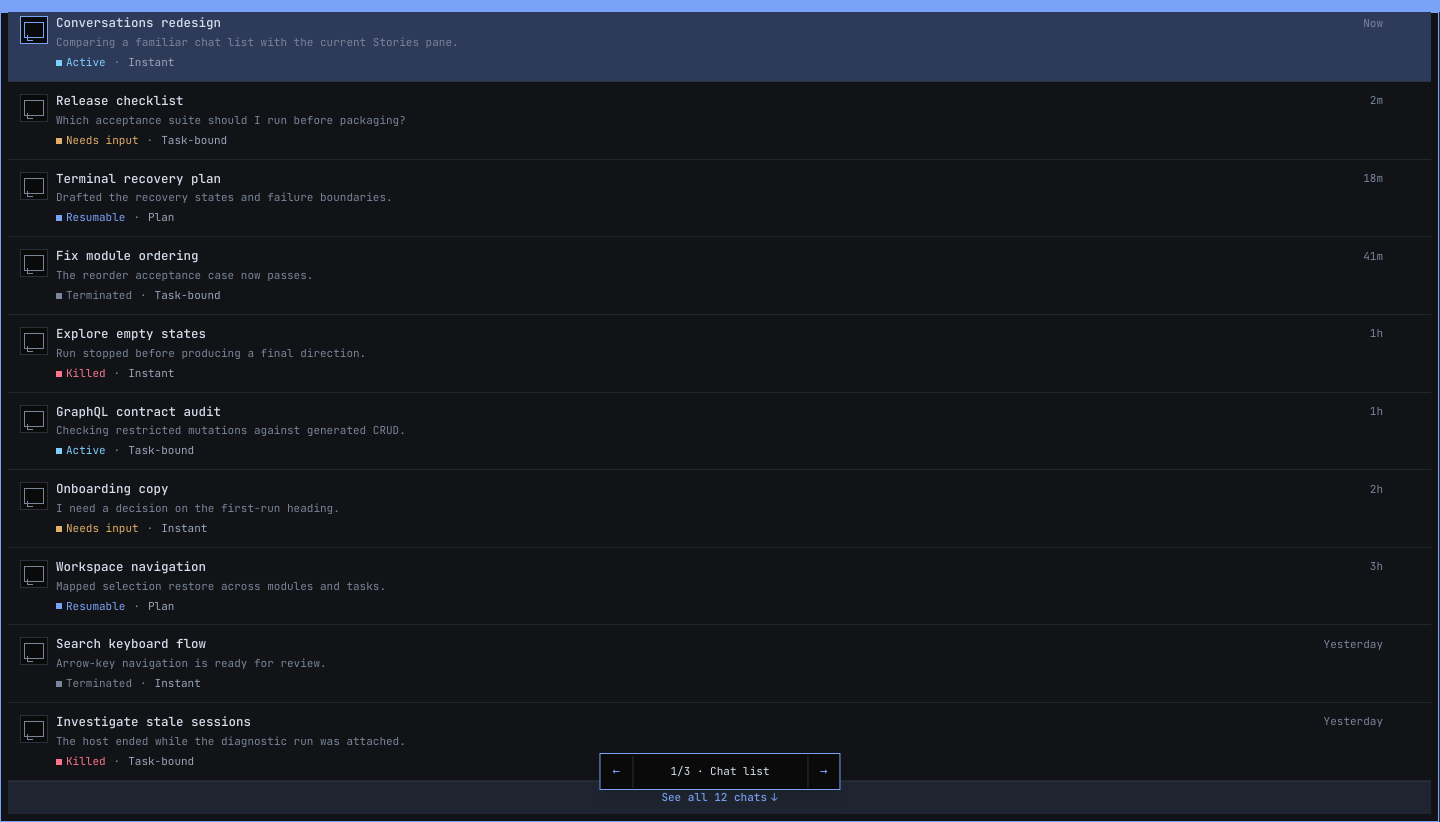
Test: overhaul acceptance - Conversations design prototype › [overhaul-242] caps the list design at ten chats
The width and height of the screenshot is (1440, 822).
(page scrolled)
Click the button "See all 12 chats ↓": {"x": 720, "y": 797} [8,781,1431,814]
(page scrolled)
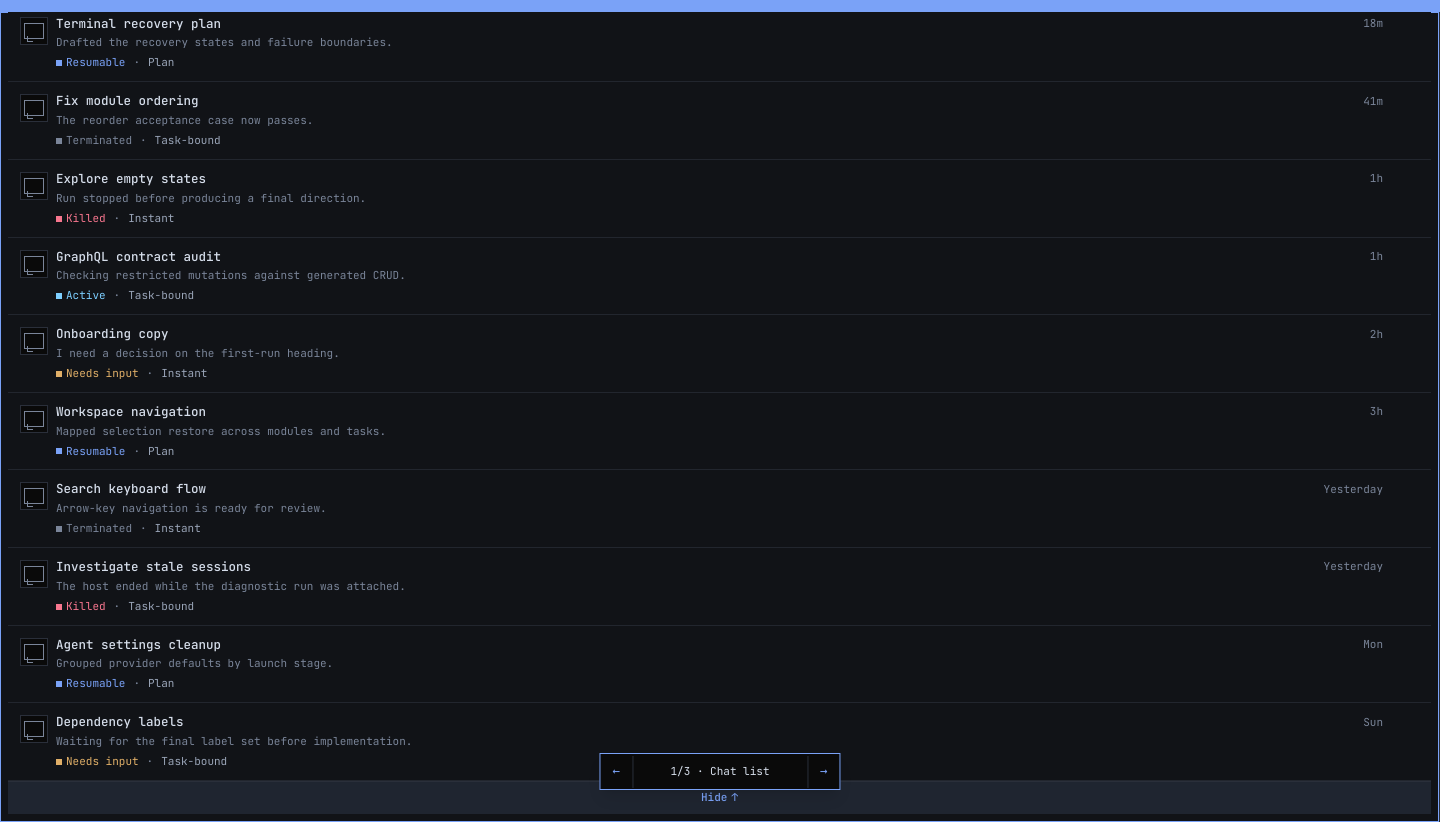
Click the button "Hide ↑": {"x": 720, "y": 797} [8,781,1431,814]
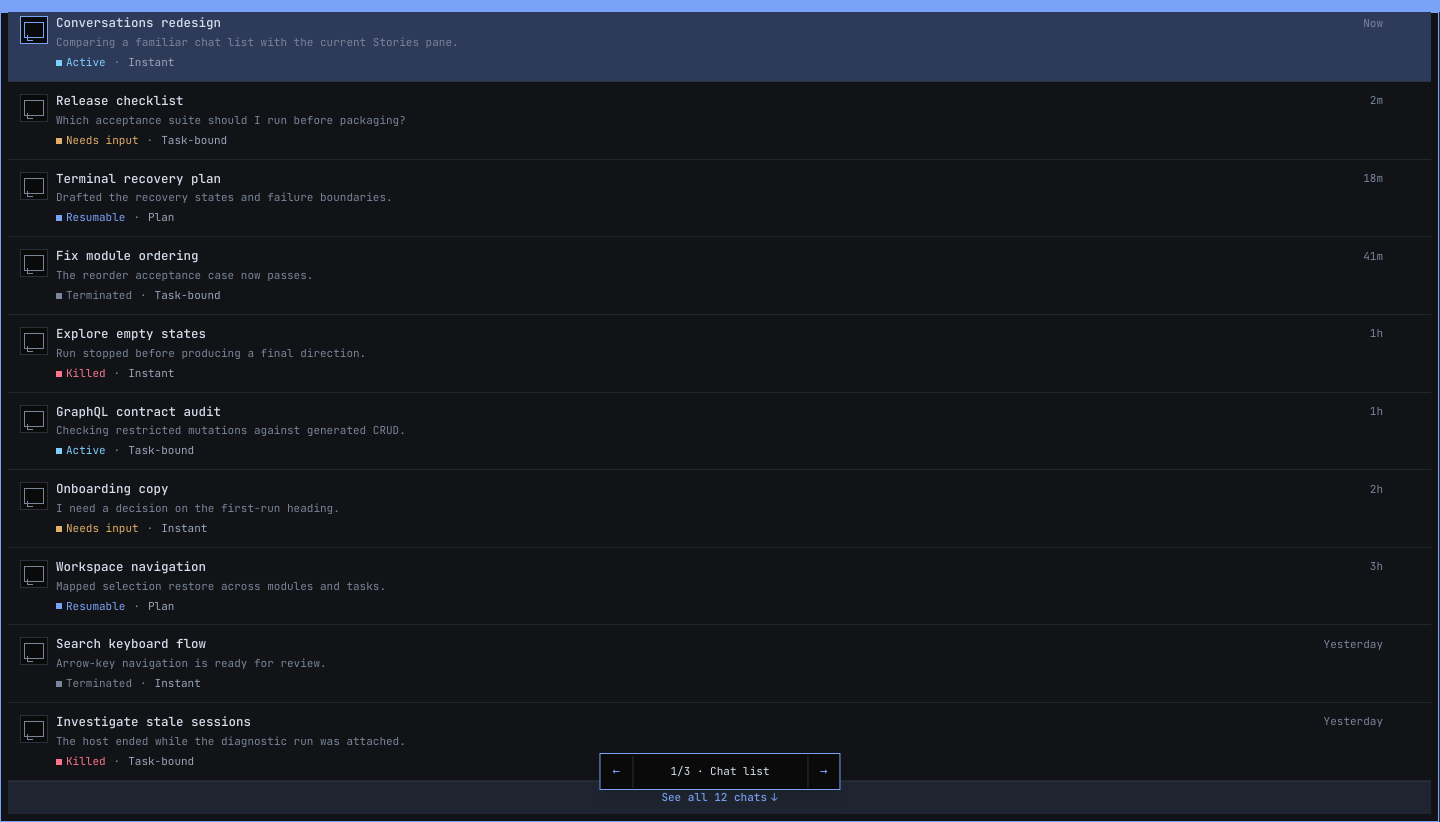
Check: the button "See all 12 chats ↓" is shown, box [8,781,1431,814]
